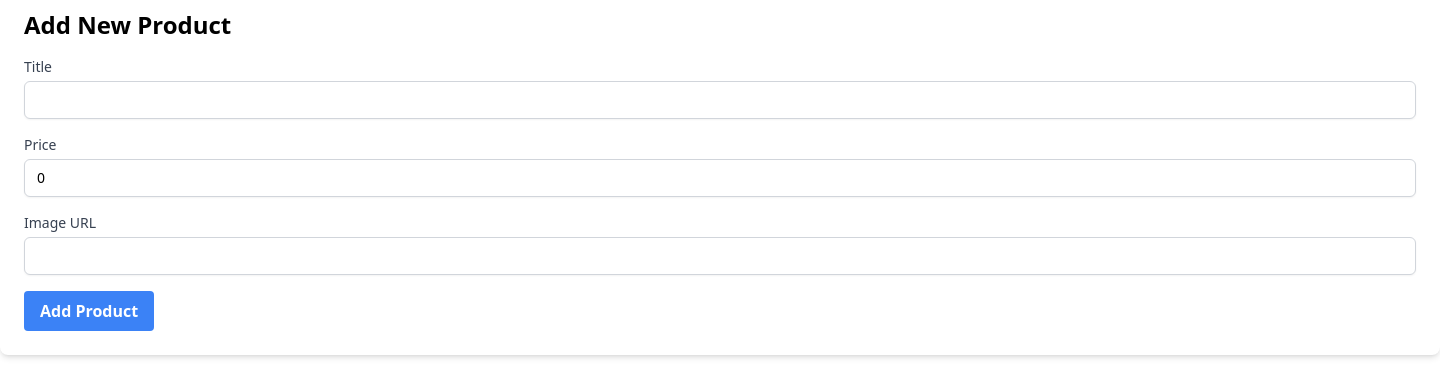
ProductFormSection › resets the form values after submission
The width and height of the screenshot is (1440, 376).
Type "Test Product" into the field labelled "Title" at (720, 100), box [24,81,1416,119]
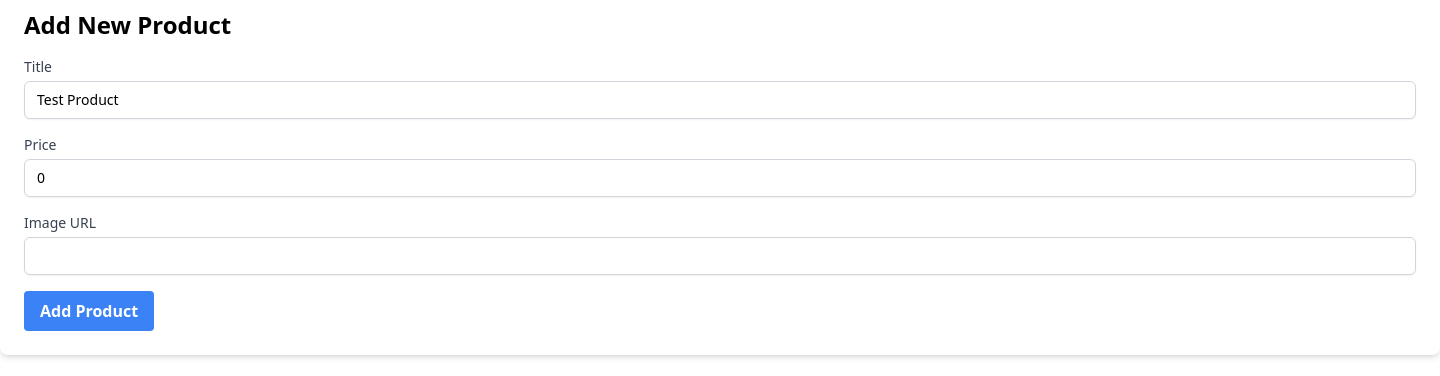
Replace the text in the number field labelled "Price" with "100" at (720, 178), box [24,159,1416,197]
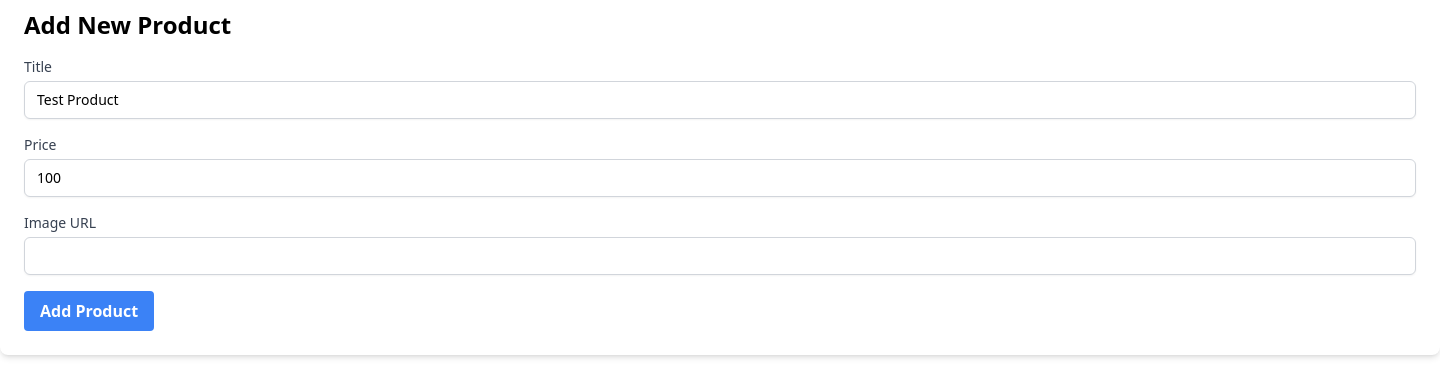
Type "http://example.com/image.jpg" into the field labelled "Image URL" at (720, 256), box [24,237,1416,275]
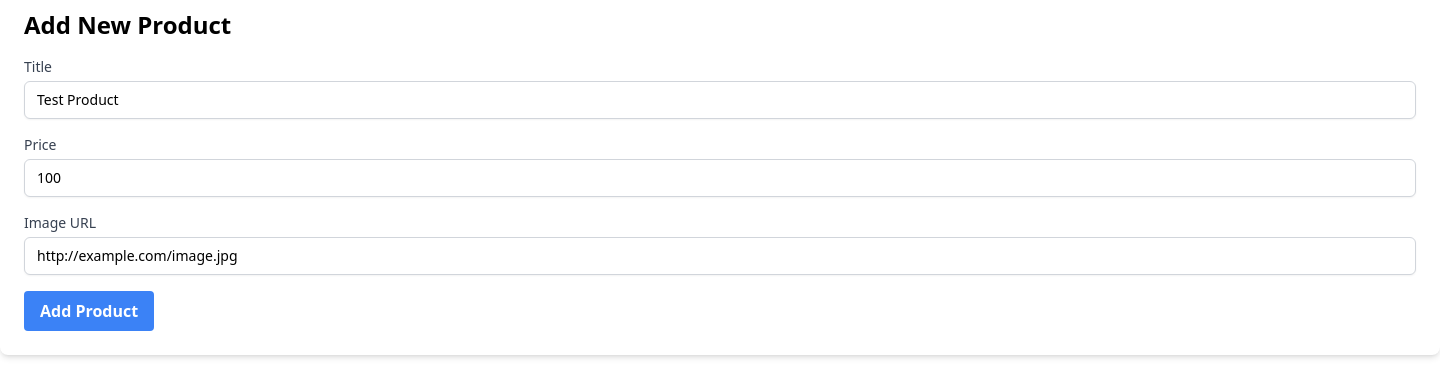
Click the button "Add Product" at (89, 311), box [24,291,154,331]
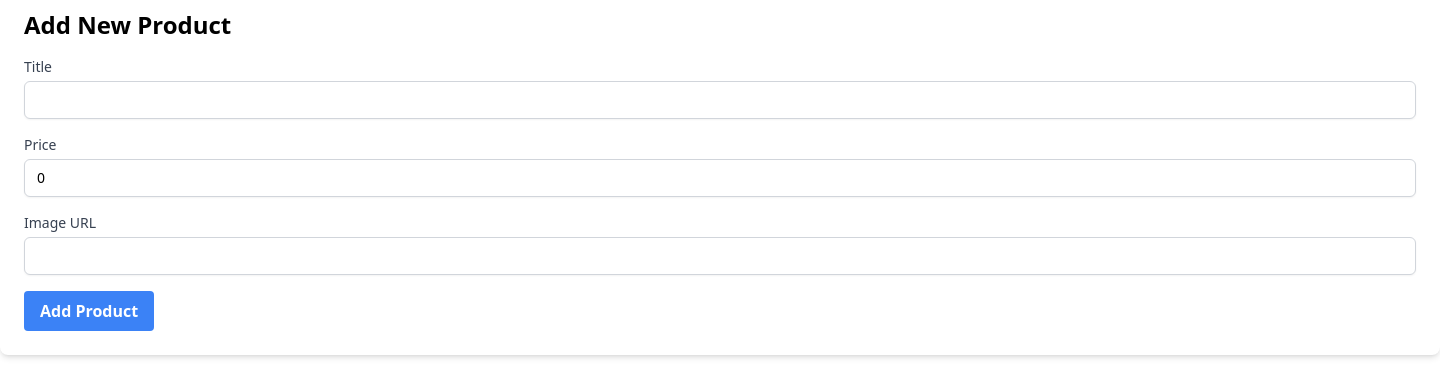
Check: the field labelled "Title" is empty, box [24,81,1416,119]
Check: the number field labelled "Price" holds "0", box [24,159,1416,197]
Check: the field labelled "Image URL" is empty, box [24,237,1416,275]
